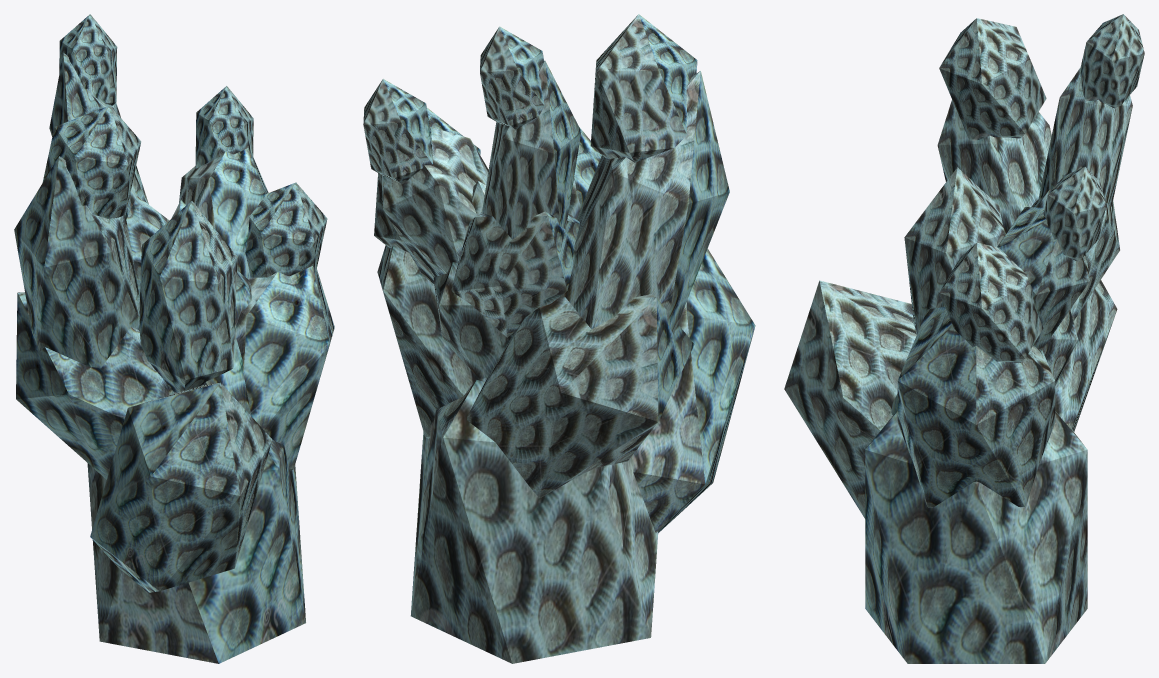
Rendered from Coral_02.fbx.
The picture shows the model from 3 angles, left to right: view 1: azimuth 30°, elevation 25°; view 2: azimuth 150°, elevation 25°; view 3: azimuth 270°, elevation 25°; orthographic projection. The views are drawn at different scales.
Parts seen in each view (by area): view 1: Coral_02; view 2: Coral_02; view 3: Coral_02.
Part boxes in pixels (x1,y1,x2,y2): Coral_02: [14, 14, 334, 663]; Coral_02: [363, 14, 755, 663]; Coral_02: [784, 14, 1144, 663].
Size of the model in its own units: 0.9731 by 1.76 by 0.9721.
